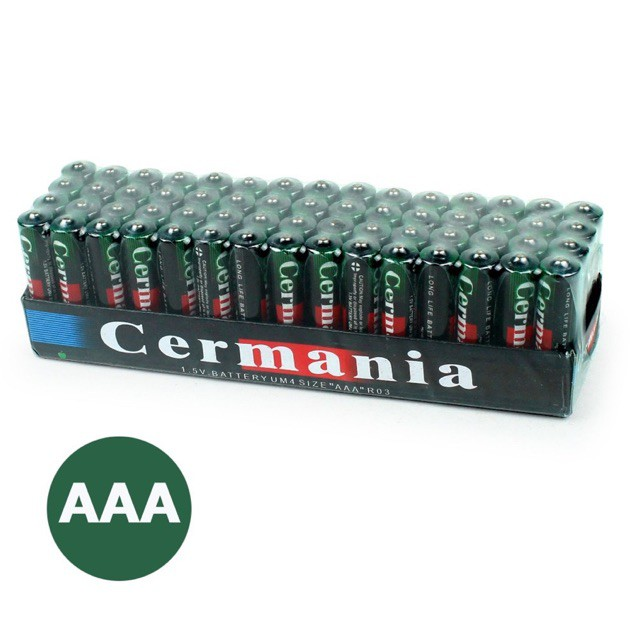Battery: (533, 251, 583, 352), (456, 244, 501, 348), (190, 221, 233, 323), (226, 223, 267, 329), (498, 251, 541, 352), (47, 213, 92, 307), (17, 206, 60, 302), (339, 234, 379, 336), (418, 240, 457, 344), (84, 215, 127, 309), (376, 239, 416, 340), (304, 232, 344, 333), (265, 226, 305, 327), (119, 217, 159, 314), (157, 219, 194, 317)
